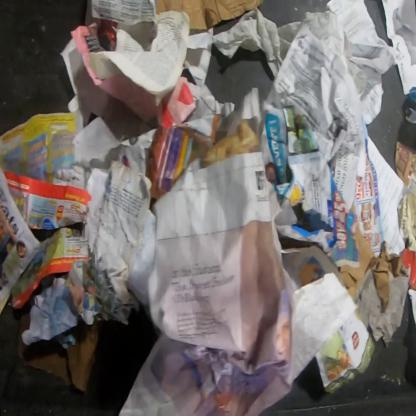cardboard: (155, 0, 264, 31), (338, 224, 376, 300)
